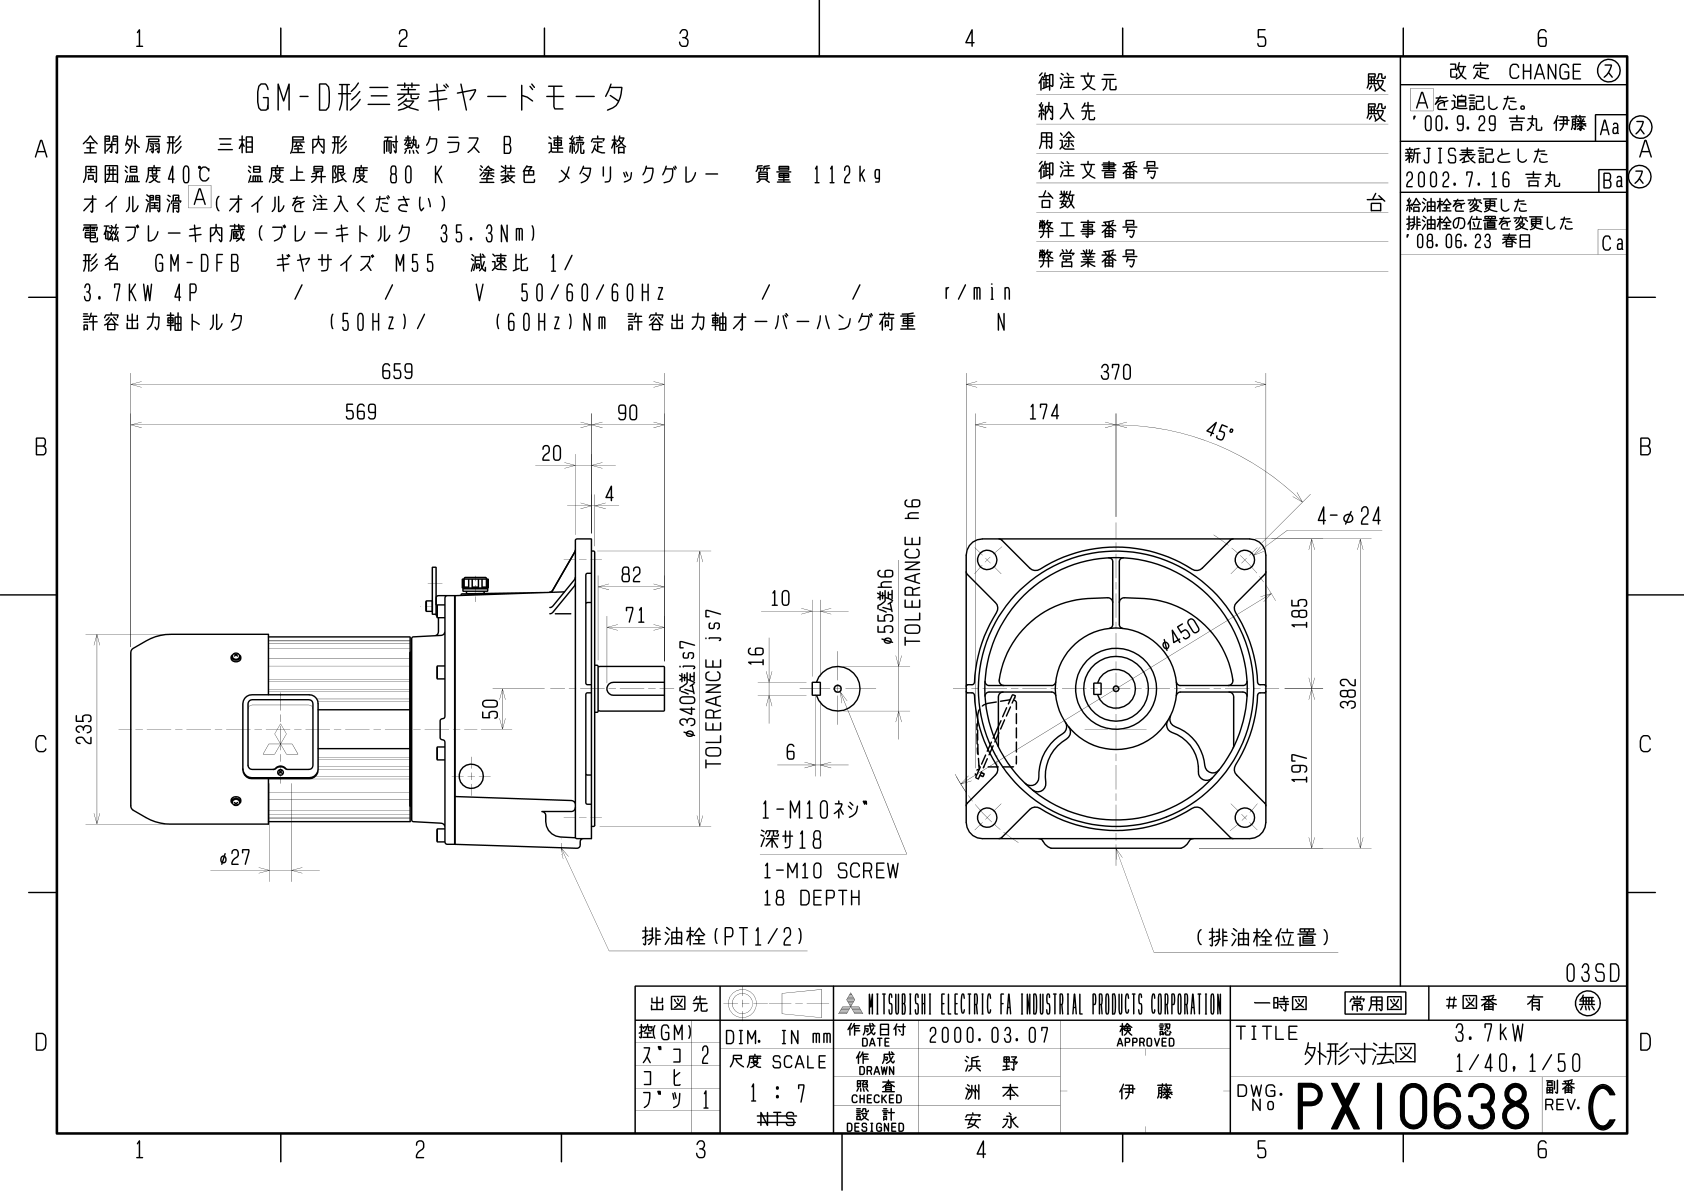GM_D_屋内＿三相_フランジ: (67, 333, 1393, 965)
